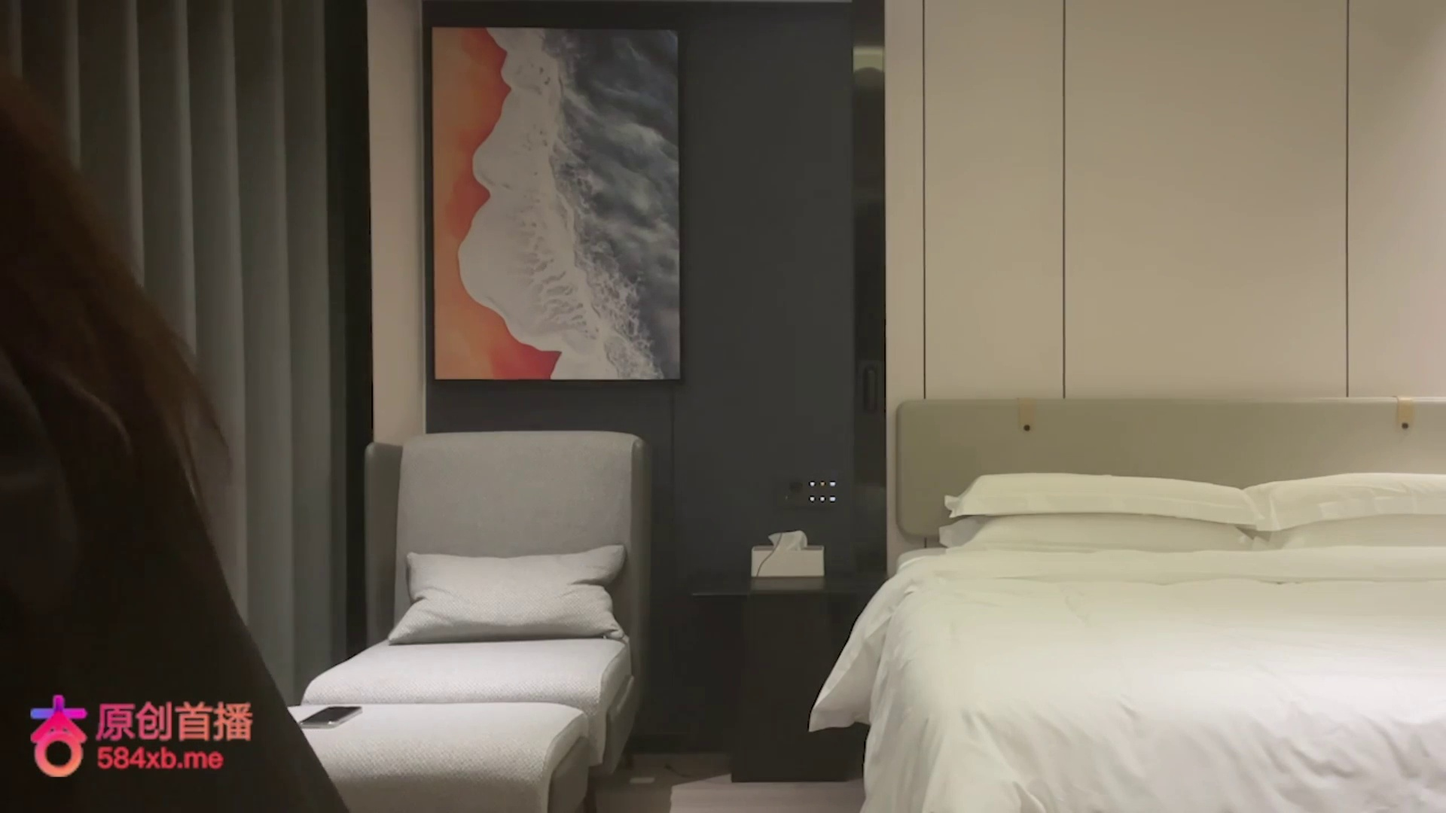stand: (1, 62, 346, 802)
